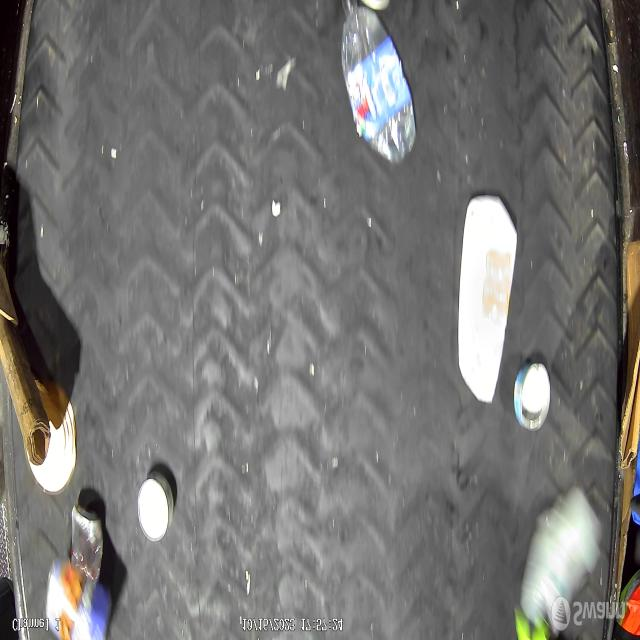can: (71, 503, 104, 587), (514, 360, 550, 432), (137, 473, 174, 541)
plastic_bottle: (338, 0, 416, 167)
